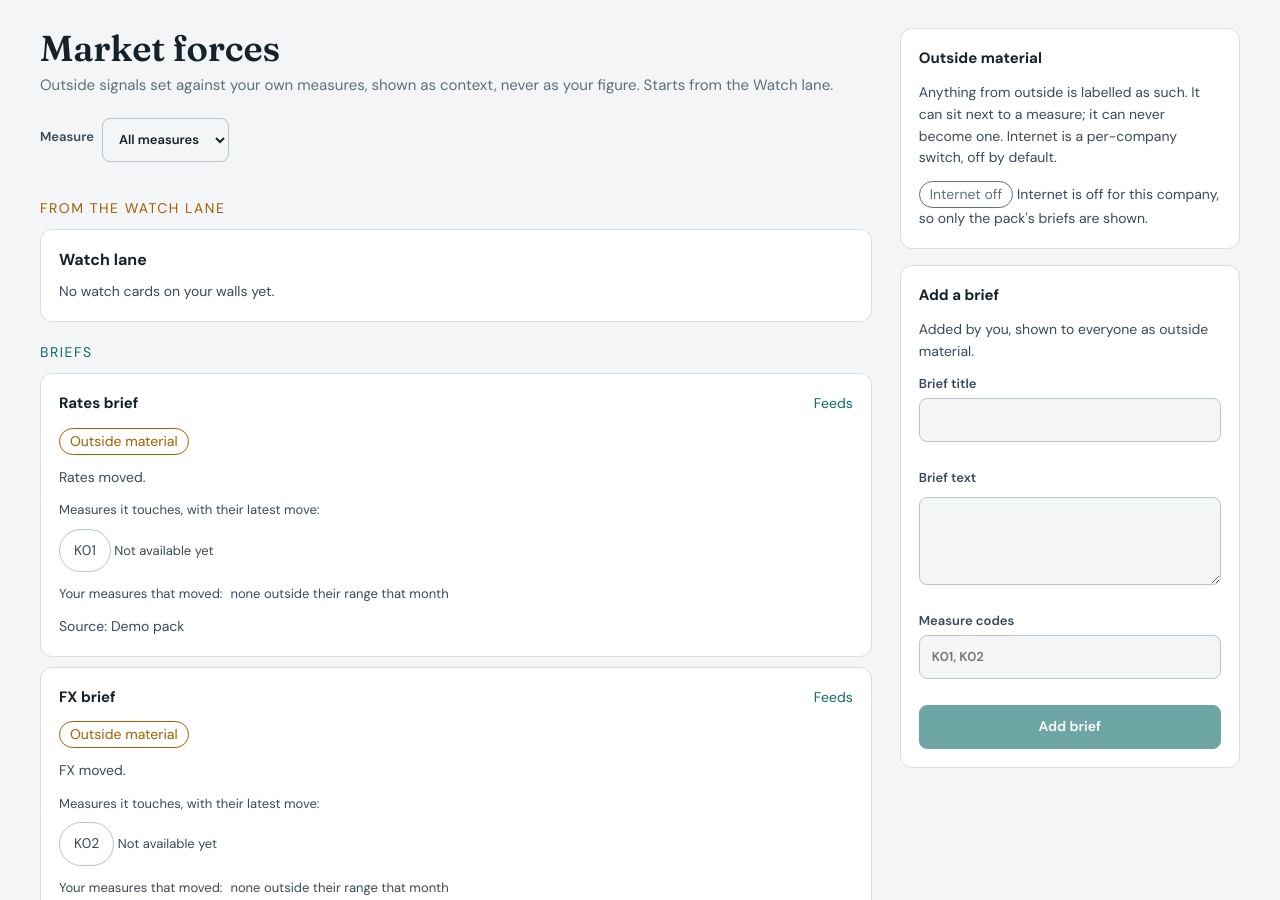
Test: filters the briefs by measure
Expected: the text "Rates brief" is shown, [59,392,138,416]
Select "K02" in the dropdown labelled "Measure" at (165, 140), box [102,118,229,162]
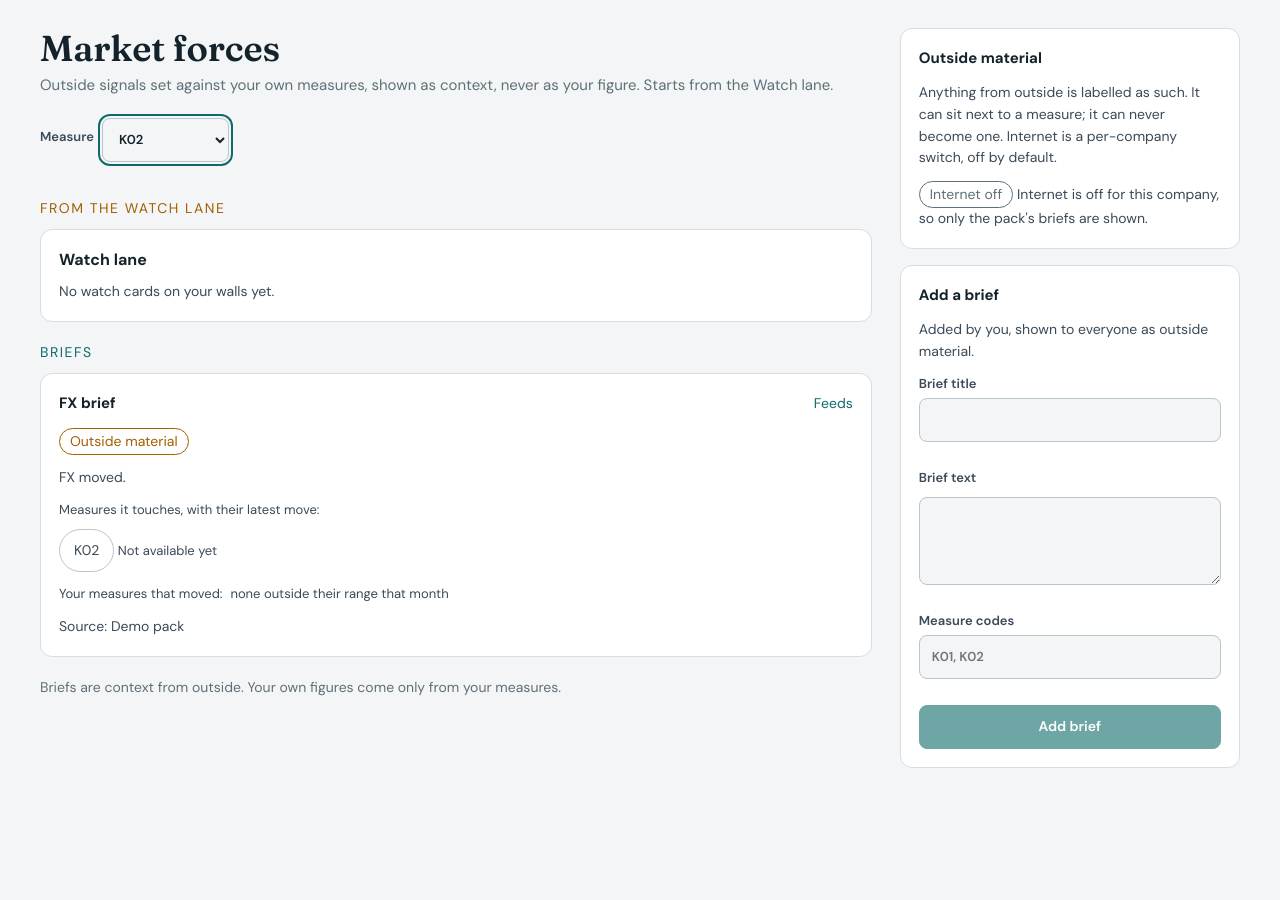
Expected: the text "FX brief" is shown, [59,392,116,416]
Now the text "Rates brief" is gone
